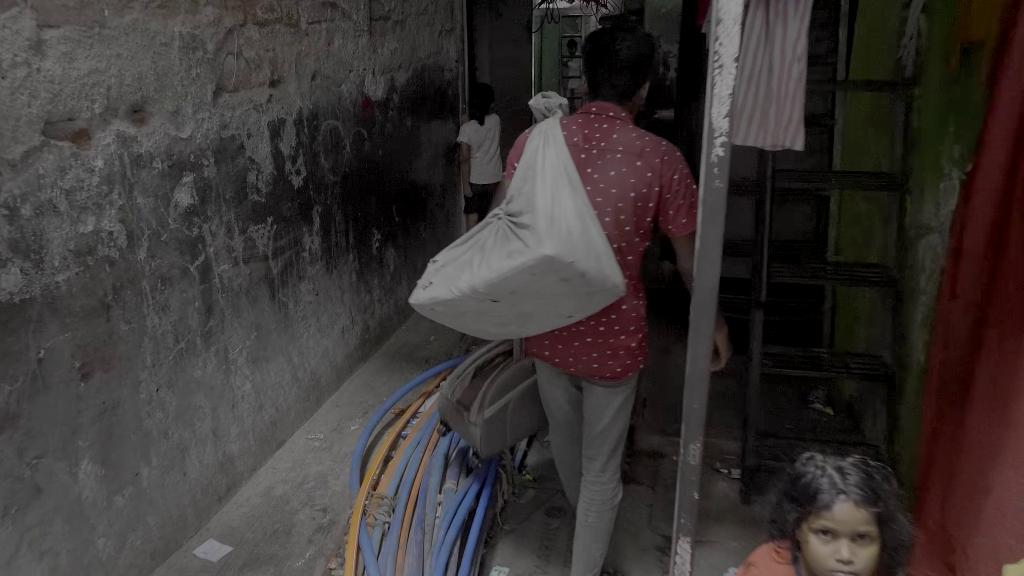garbage: (191, 537, 234, 566)
